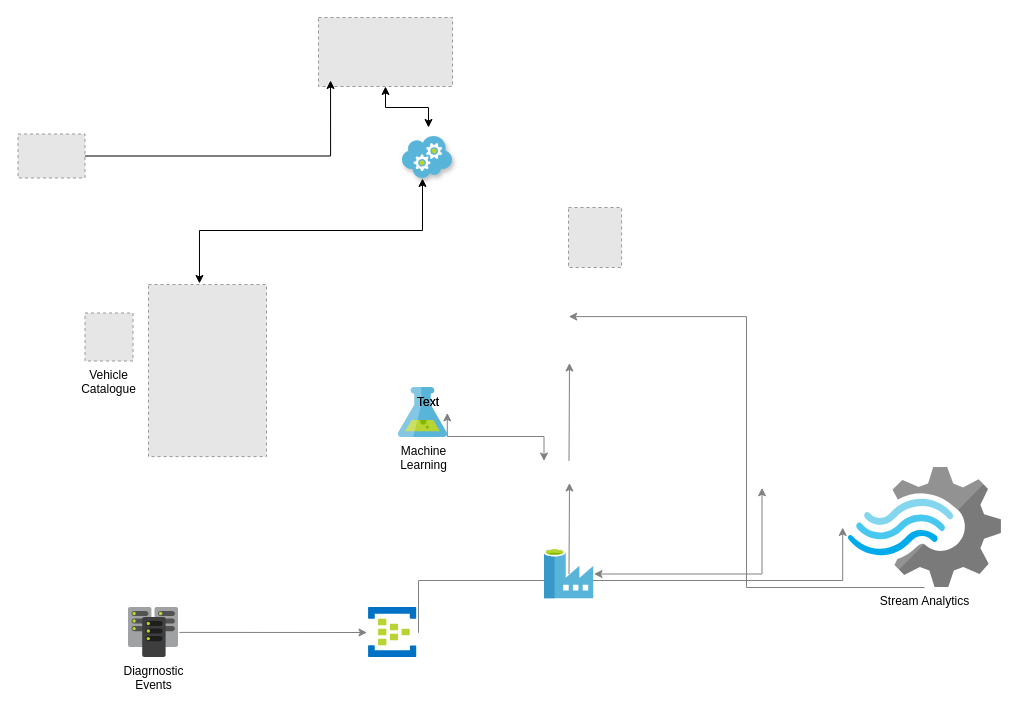
Some shapes in this 1018 by 711 pixel diagram are drawn without their labels. Grey dashed boxes stand in for pictures. The centre of each missing label's shape, as x and y in pixels:
"Data Factory" goes at pixel 569 573.
"Event Hub" goes at pixel 392 632.
